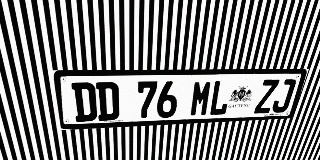6: (156, 81, 179, 118)
7: (136, 81, 158, 119)
D: (71, 82, 97, 122), (96, 82, 119, 121)
J: (270, 79, 297, 113)
L: (208, 80, 233, 116)
M: (189, 80, 213, 117)
Z: (254, 79, 280, 114)
